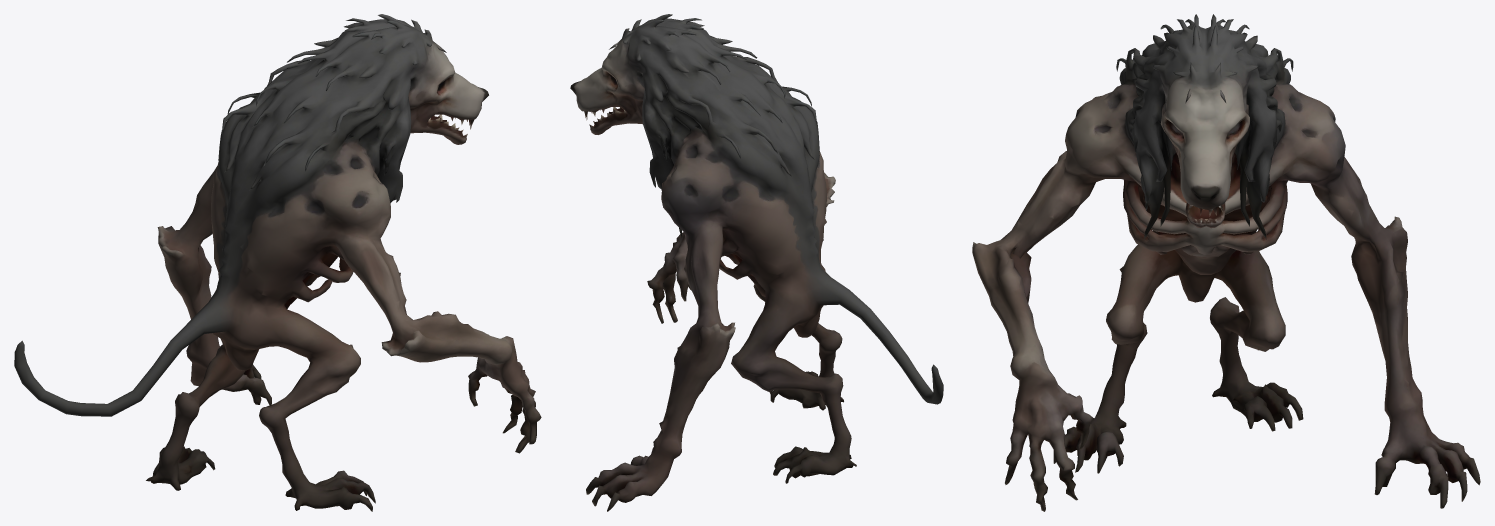
3 views of the same model, side by side, from view 1: azimuth 30°, elevation 25°; view 2: azimuth 150°, elevation 25°; view 3: azimuth 270°, elevation 25° (orthographic). The views are drawn at different scales.
Parts seen in each view (by area): view 1: tripo_node_8b6884d2-79d7-4099-b548-8ce4052f54b4; view 2: tripo_node_8b6884d2-79d7-4099-b548-8ce4052f54b4; view 3: tripo_node_8b6884d2-79d7-4099-b548-8ce4052f54b4.
Boxes of the visible parts, box(x1,y1,x2,y2) form: tripo_node_8b6884d2-79d7-4099-b548-8ce4052f54b4: box(14, 14, 541, 511); tripo_node_8b6884d2-79d7-4099-b548-8ce4052f54b4: box(570, 14, 943, 511); tripo_node_8b6884d2-79d7-4099-b548-8ce4052f54b4: box(972, 14, 1480, 511).
Bounding box in the file's own units: 1 × 0.9589 × 0.8924.
Materials: 1 (1 with a texture image).
